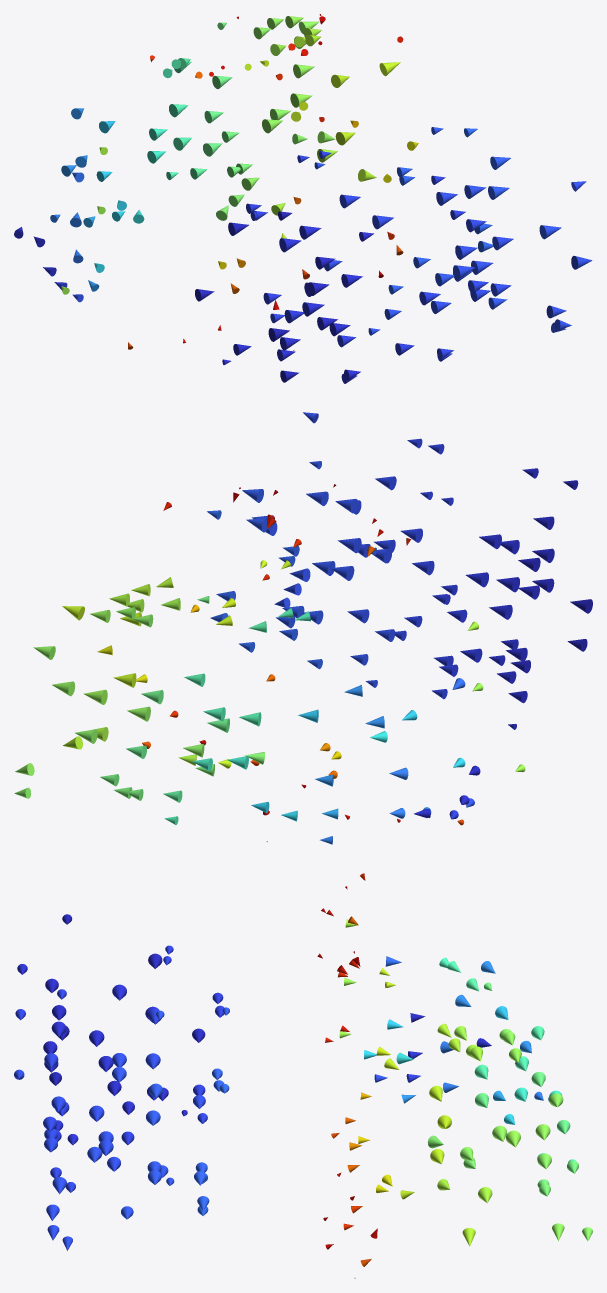
The model's file is LineasCorrienteN2-H2O_mh2-5.58_V-0.7.glb.
3 renders of one model, top to bottom at view 1: azimuth 30°, elevation 25°; view 2: azimuth 150°, elevation 25°; view 3: azimuth 270°, elevation 25°, orthographic. The views are drawn at different scales.
Bounding box in the file's own units: 0.000982 × 0.000838 × 0.00121.
Materials: 2 (2 with a texture image).
